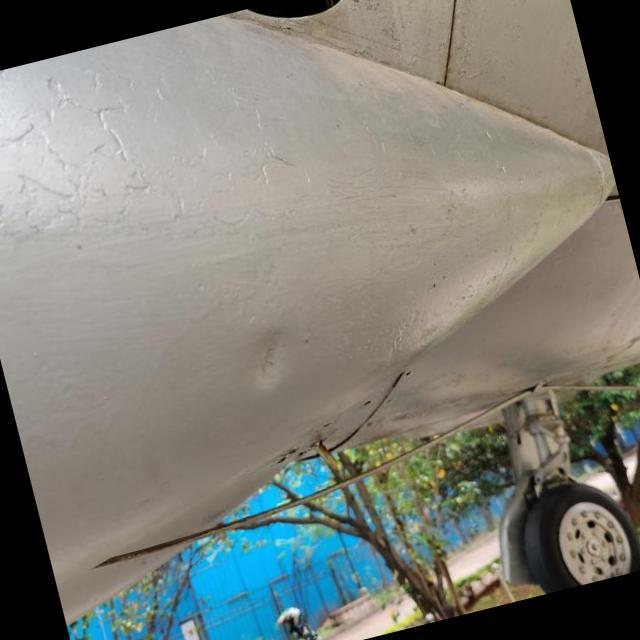Dent: (214, 303, 322, 412)
